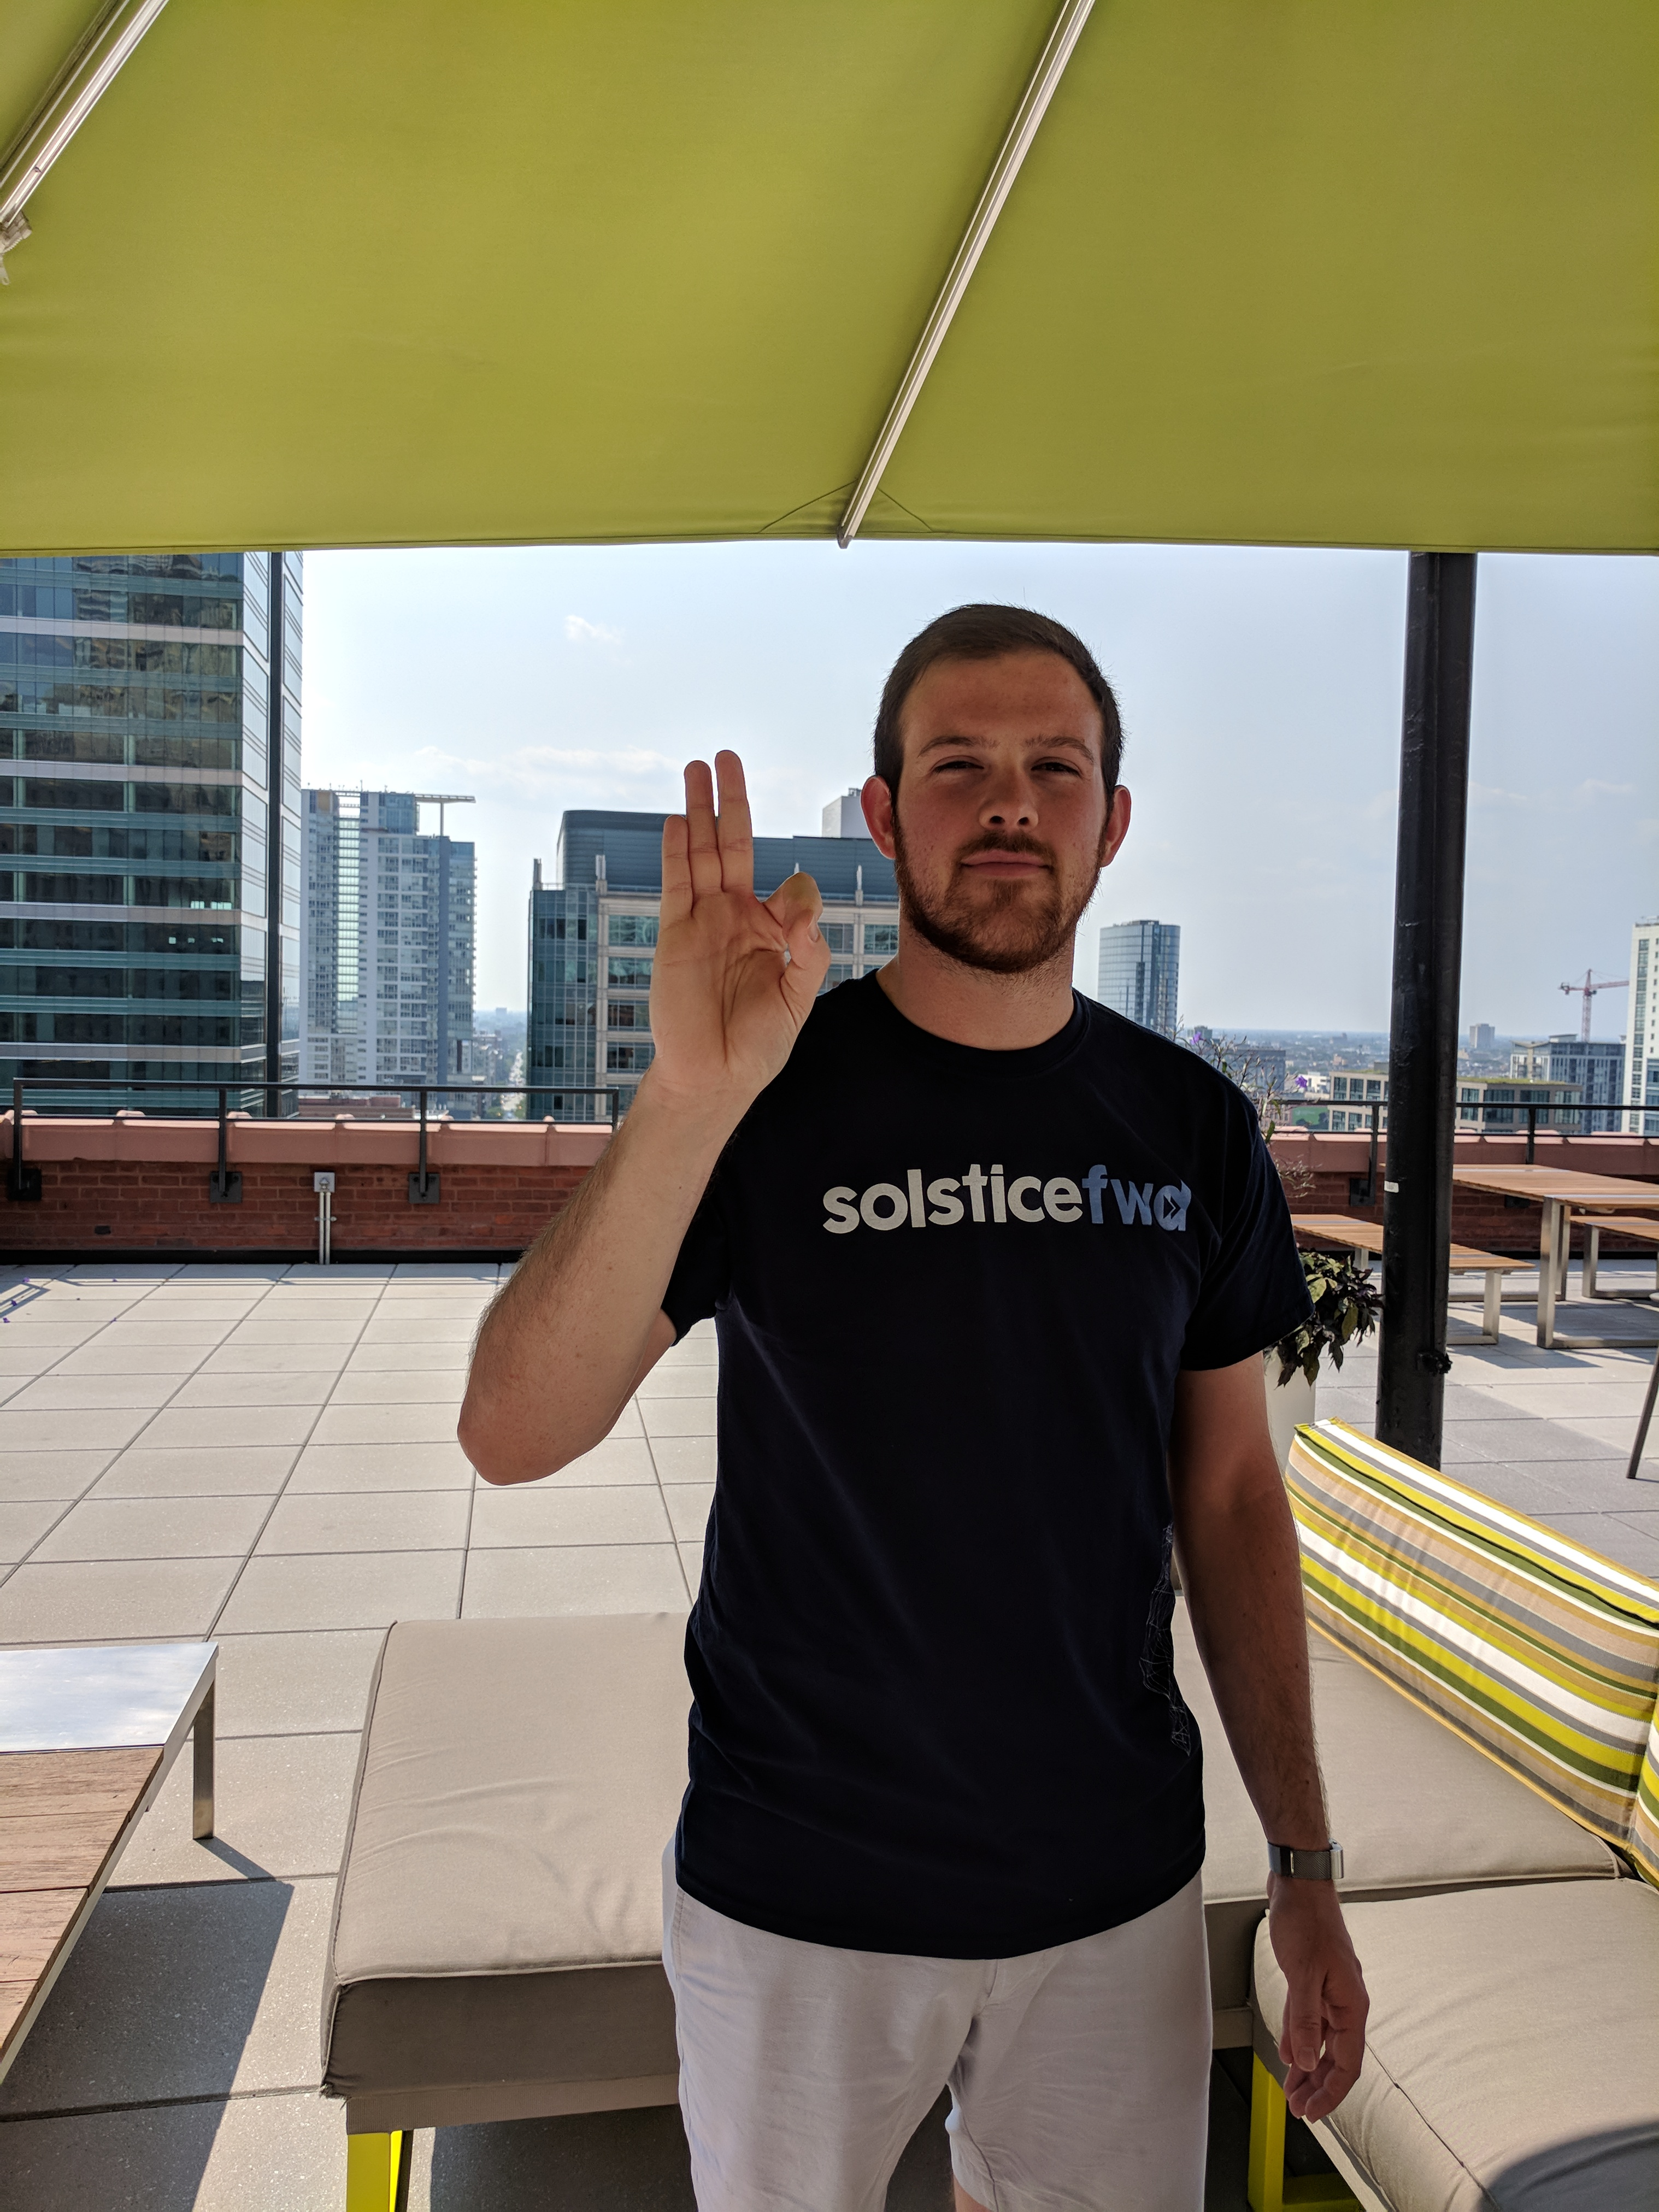f: (647, 745, 835, 1122)
